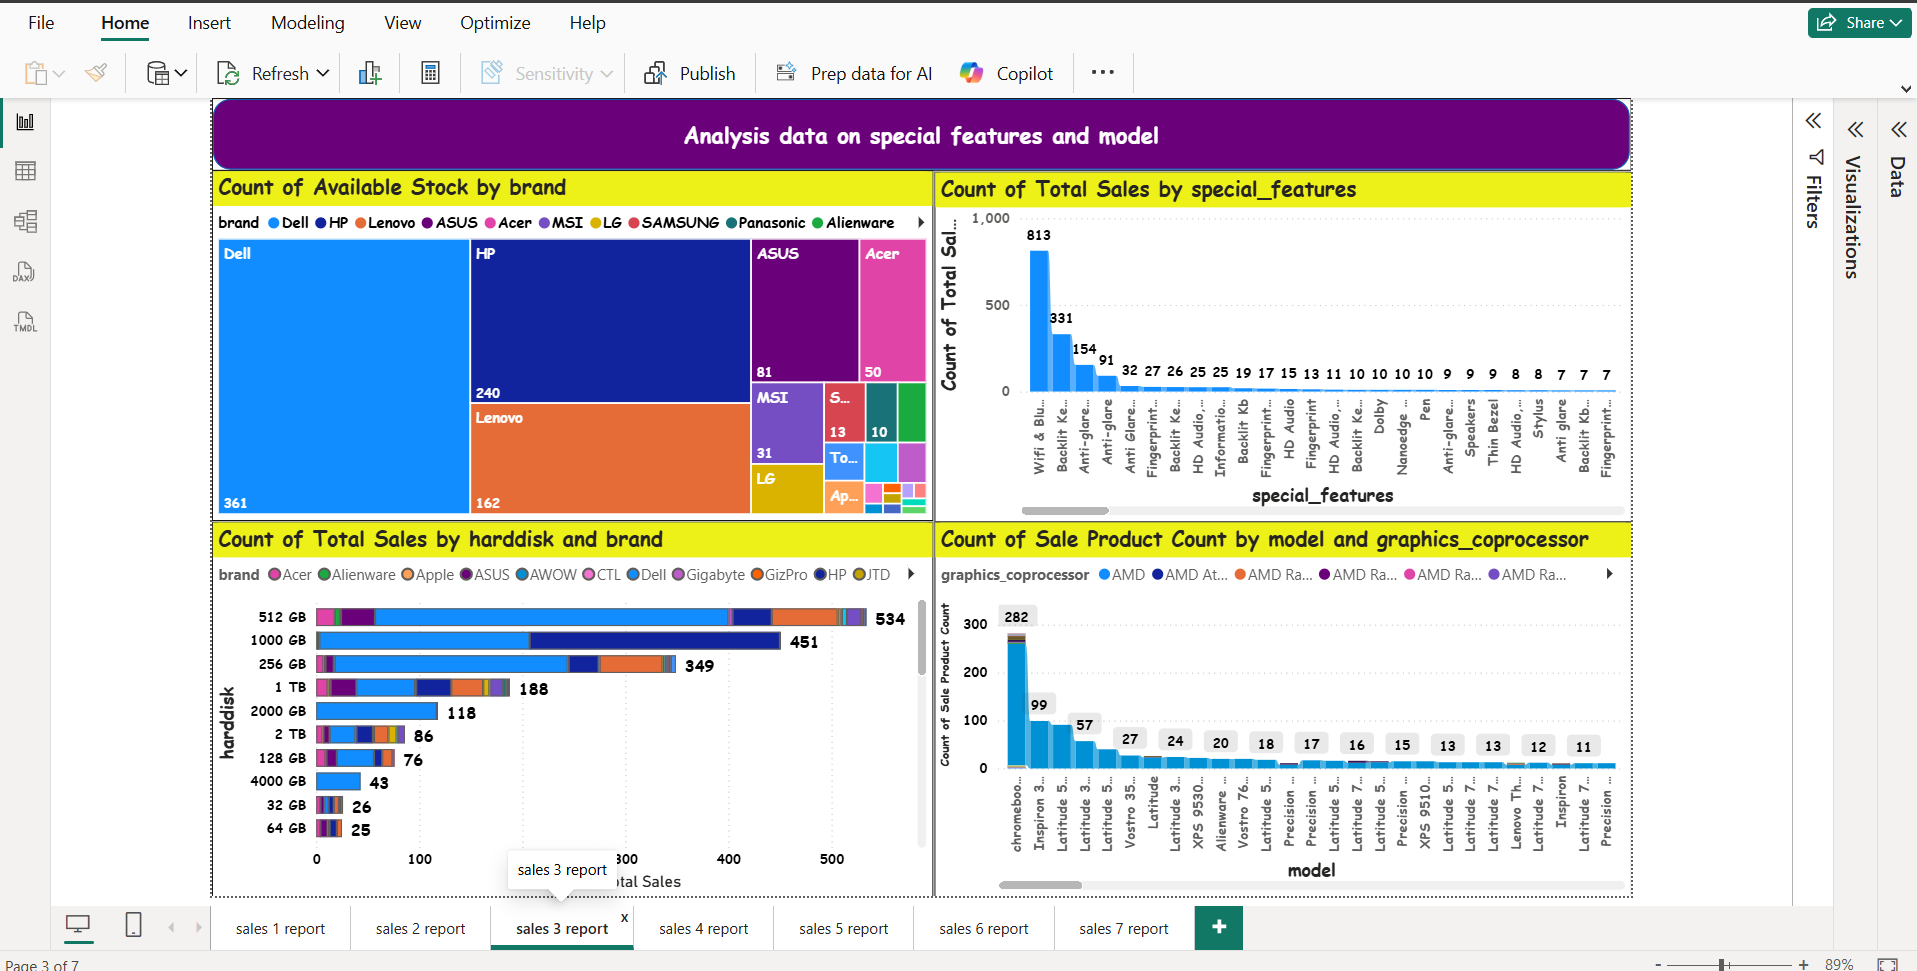

The page's visual inventory and layout, read from the dashboard file:
{"tool":"powerbi","page":{"name":"sales 3 report","canvas":[1280,720],"ordinal":2},"visuals":[{"type":"treemap","fields":{"Group":["amazon_laptop sales report project.brand"],"Values":["Count(amazon_laptop sales report project.Available Stock)"]},"box":[0,65.9,650.6,315.9],"z":0},{"type":"shape","box":[0,0,1279.7,65.9],"z":1000},{"type":"barChart","fields":{"Category":["amazon_laptop sales report project.harddisk"],"Y":["CountNonNull(amazon_laptop sales report project.Total Sales)"],"Series":["amazon_laptop sales report project.brand"]},"box":[0,381.7,650.6,338.7],"z":2000},{"type":"columnChart","fields":{"Category":["amazon_laptop sales report project.special_features"],"Y":["CountNonNull(amazon_laptop sales report project.Total Sales)"]},"box":[651,66,629,316],"z":3000},{"type":"columnChart","fields":{"Y":["CountNonNull(amazon_laptop sales report project.Sale Product Count)"],"Category":["amazon_laptop sales report project.model"],"Series":["amazon_laptop sales report project.graphics_coprocessor"]},"box":[651,382,629,338],"z":4000}]}

Visuals, with their boxes on the page's 1280x720 design canvas (x1, y1, x2, y2). These are canvas units, not pixel positions in the 1917x971 screenshot, which may show the page scaled, cropped or inside an application window:
treemap - amazon_laptop sales report project.brand x Count(amazon_laptop sales report project.Available Stock): {"left": 0, "top": 66, "right": 651, "bottom": 382}
shape: {"left": 0, "top": 0, "right": 1280, "bottom": 66}
barChart - amazon_laptop sales report project.harddisk x CountNonNull(amazon_laptop sales report project.Total Sales): {"left": 0, "top": 382, "right": 651, "bottom": 720}
columnChart - amazon_laptop sales report project.special_features x CountNonNull(amazon_laptop sales report project.Total Sales): {"left": 651, "top": 66, "right": 1280, "bottom": 382}
columnChart - CountNonNull(amazon_laptop sales report project.Sale Product Count) x amazon_laptop sales report project.model: {"left": 651, "top": 382, "right": 1280, "bottom": 720}
